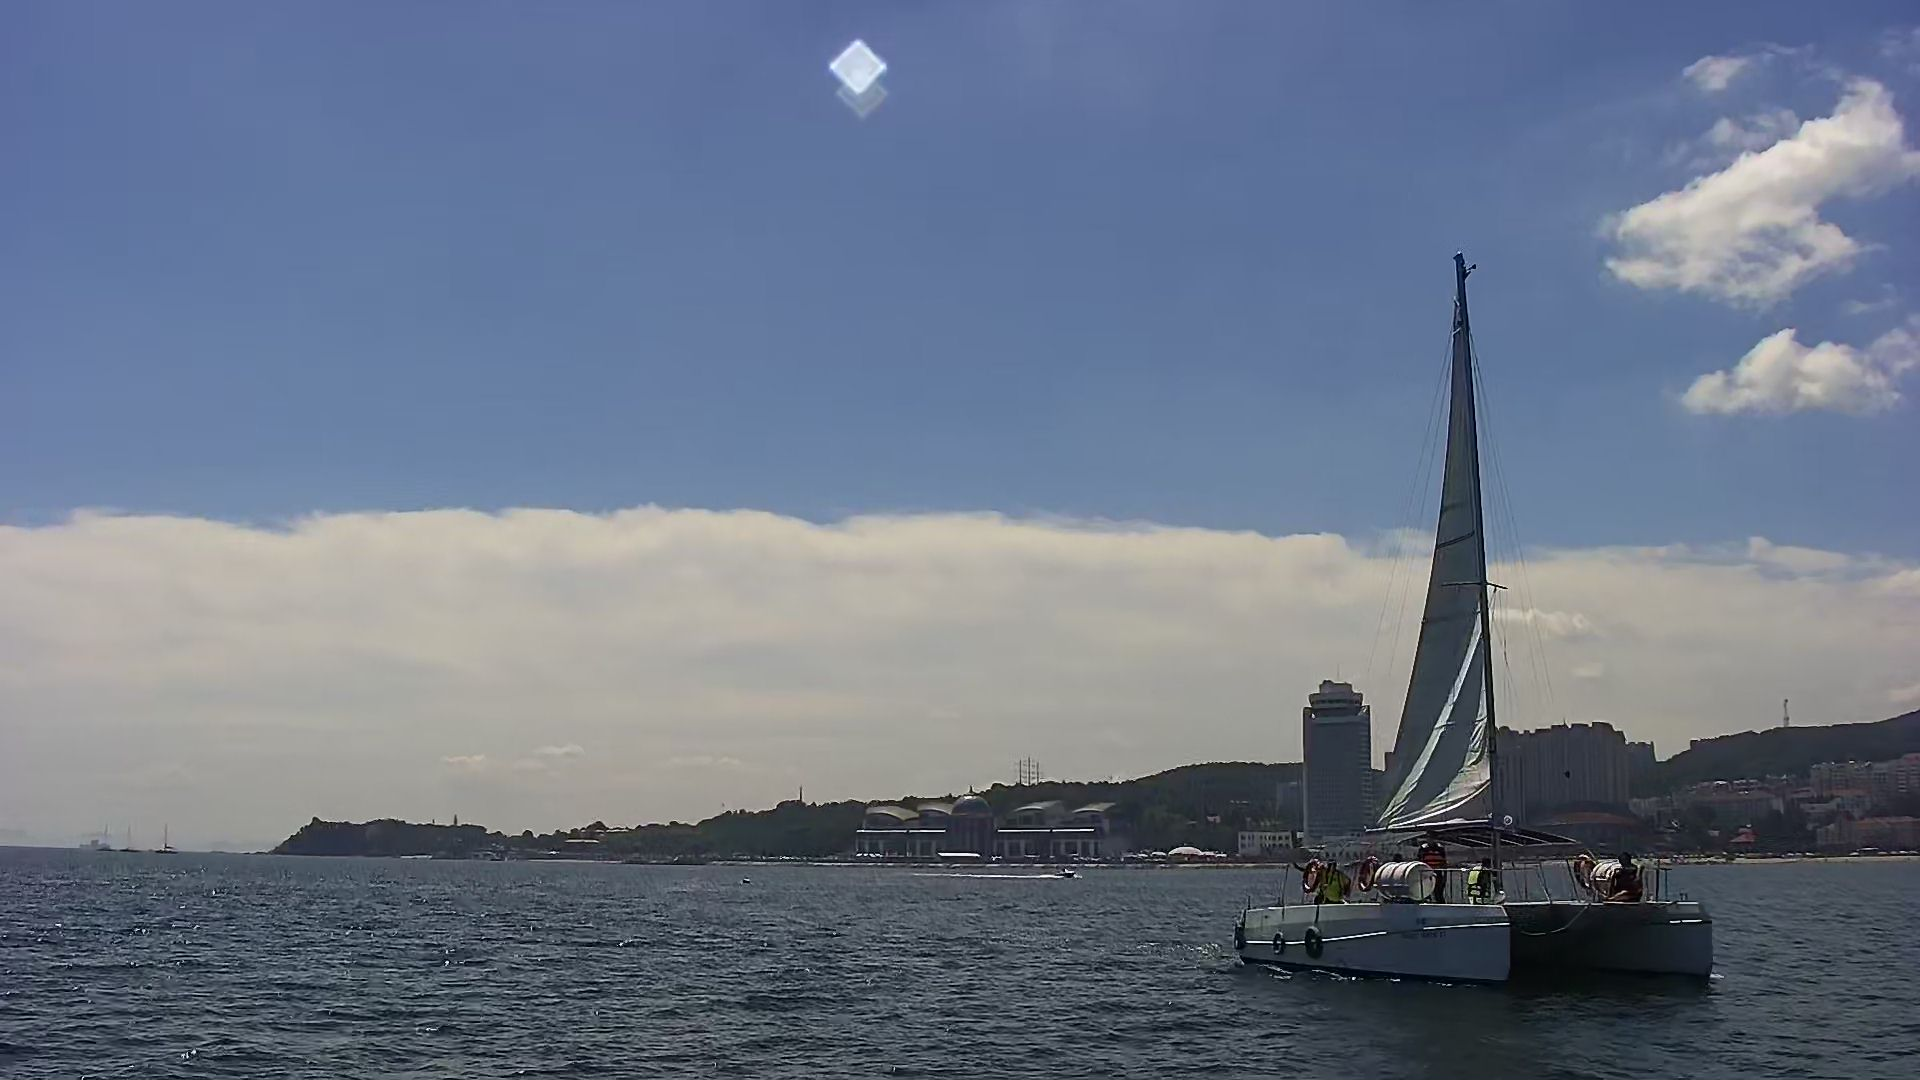boat: (1226, 251, 1725, 994)
